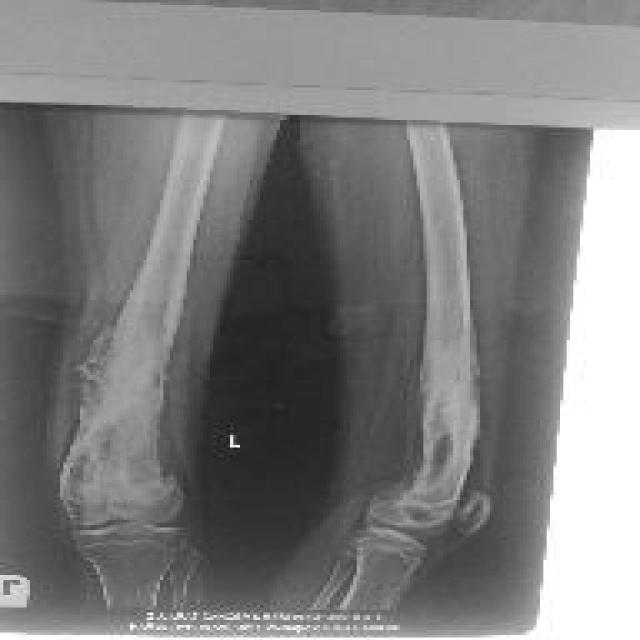bone-cancer: (61, 292, 182, 496), (416, 322, 484, 487)
